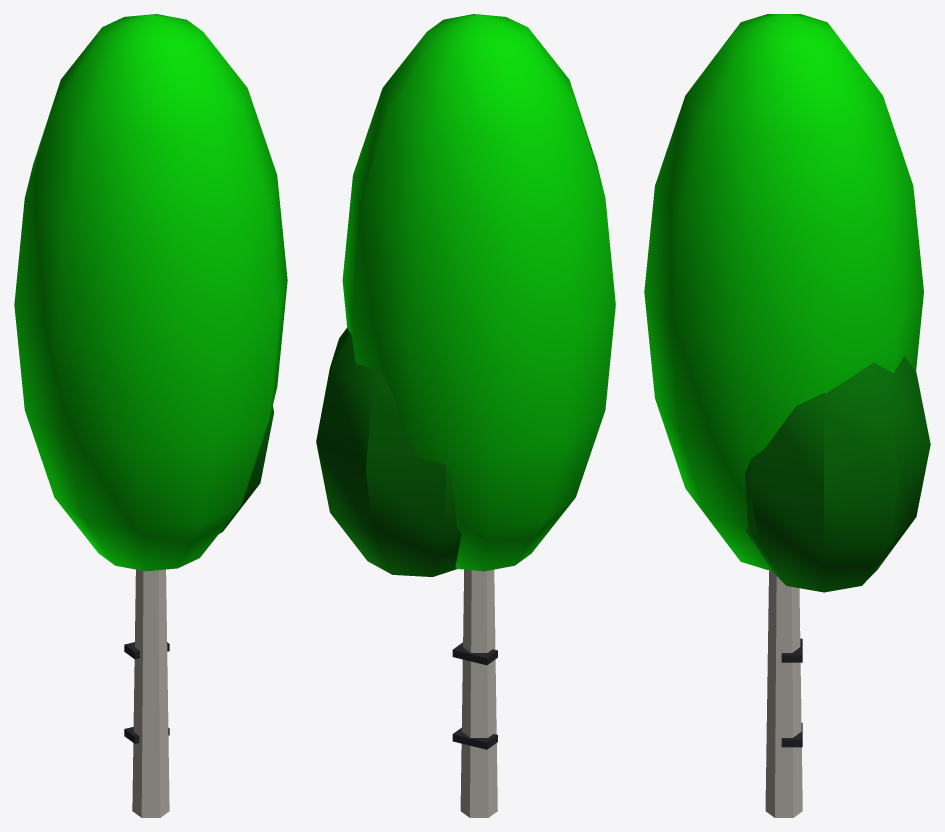
File: Tree_Poplar.fbx
The picture shows the model from 3 angles, left to right: view 1: azimuth 30°, elevation 25°; view 2: azimuth 150°, elevation 25°; view 3: azimuth 270°, elevation 25°; orthographic projection.
Visible parts, largest first — view 1: Tree_Poplar; view 2: Tree_Poplar; view 3: Tree_Poplar.
Boxes of the visible parts, x1,y1,x2,y2 form: Tree_Poplar: (14,14,287,817); Tree_Poplar: (316,14,615,817); Tree_Poplar: (644,14,930,817).
Size of the model in its own units: 2.15 by 6.6 by 2.15.
